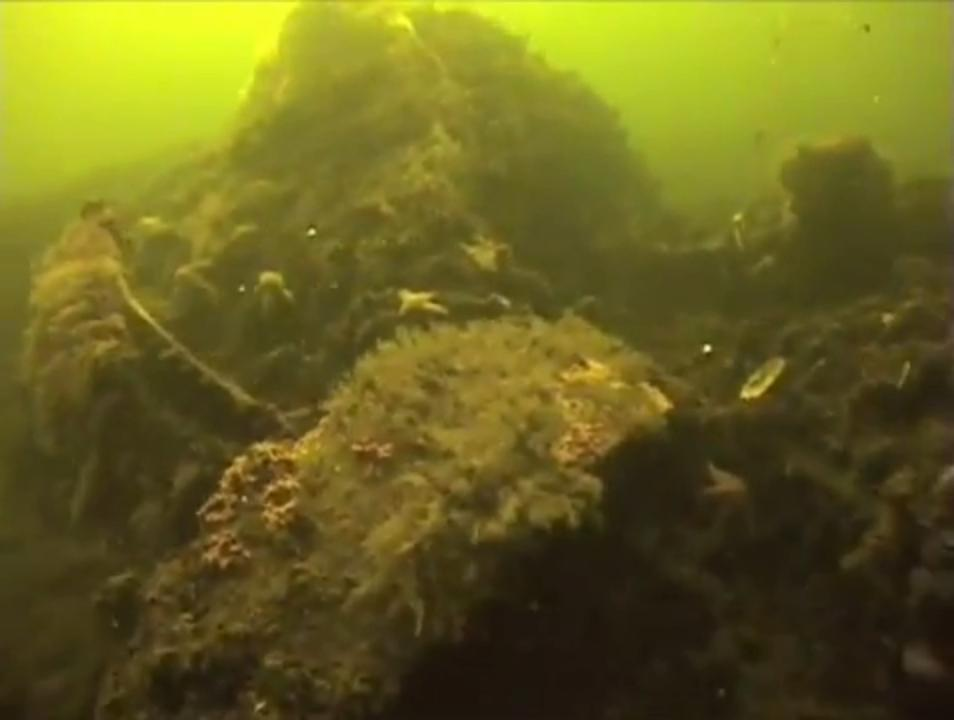Oyster-Open: (141, 310, 671, 720), (430, 12, 673, 260), (233, 0, 470, 180)
